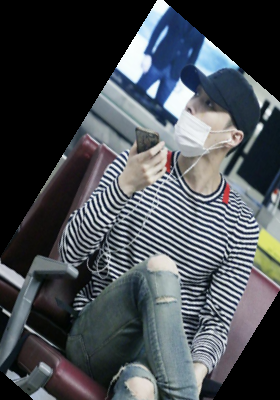mask_weared_incorrect: (168, 52, 265, 164)
